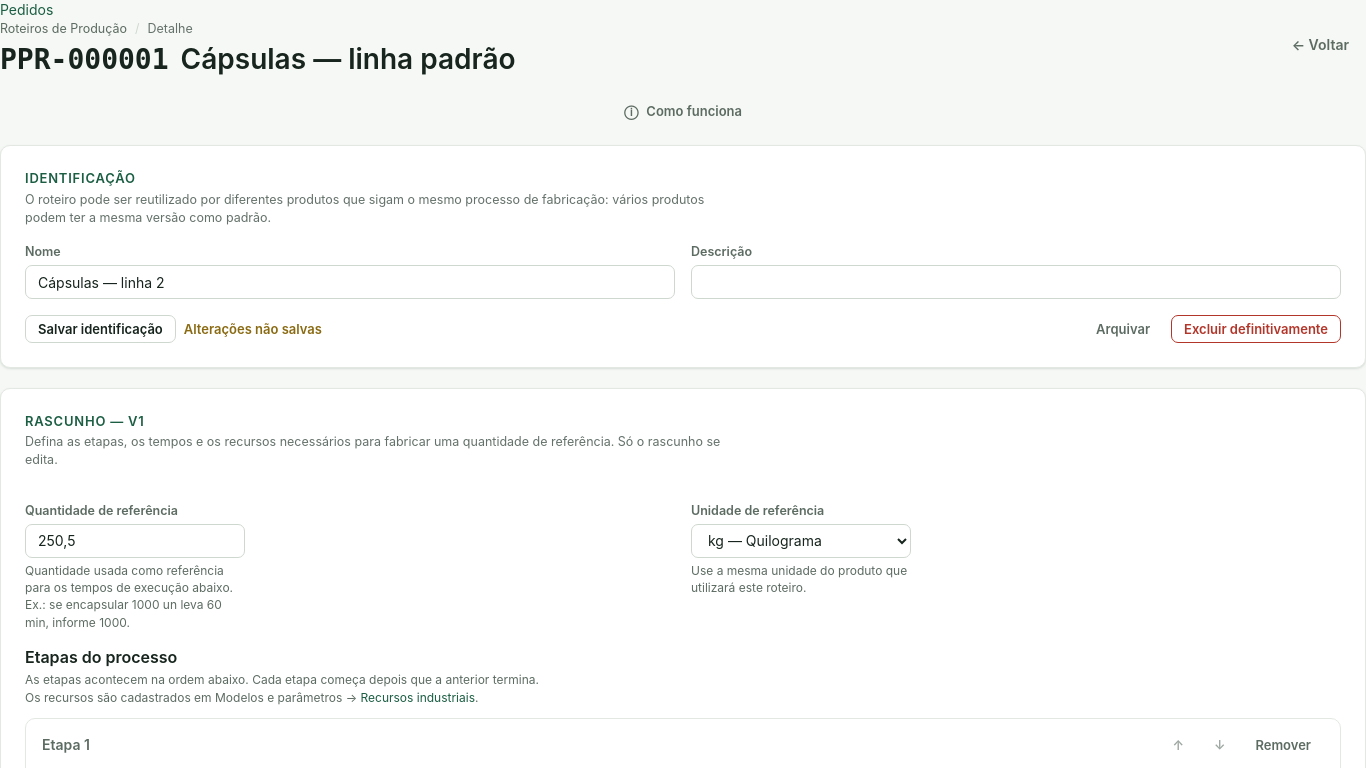
Test: Roteiro restaurado — alterações não salvas › depois da volta, salvar a identificação não apaga o rascunho restaurado (StrictMode)
Expected: the dropdown labelled "Unidade de referência" shows "kg — Quilograma", [691,524,911,558]
Expected: the field labelled "Quantidade de referência" holds "250,5", [25,524,245,558]
Click the button "Salvar identificação": (100, 329) [25,315,176,343]
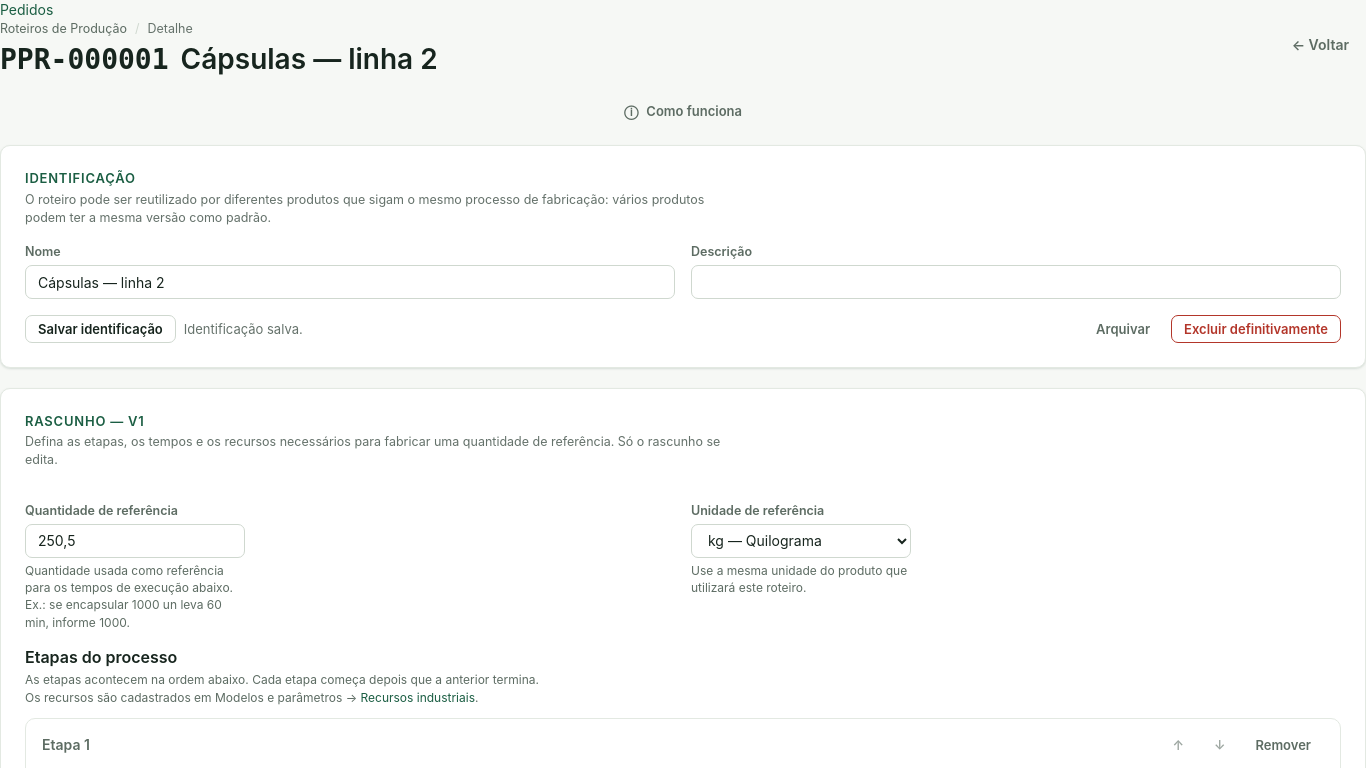
Expected: the dropdown labelled "Unidade de referência" shows "kg — Quilograma", [691,524,911,558]
Result: the text "Identificação salva." is shown at [184,320,303,338]
Result: the heading "PPR-000001 Cápsulas — linha 2" is shown at [0,42,438,77]
Click the link "Pedidos": (27, 10) [0,1,53,18]
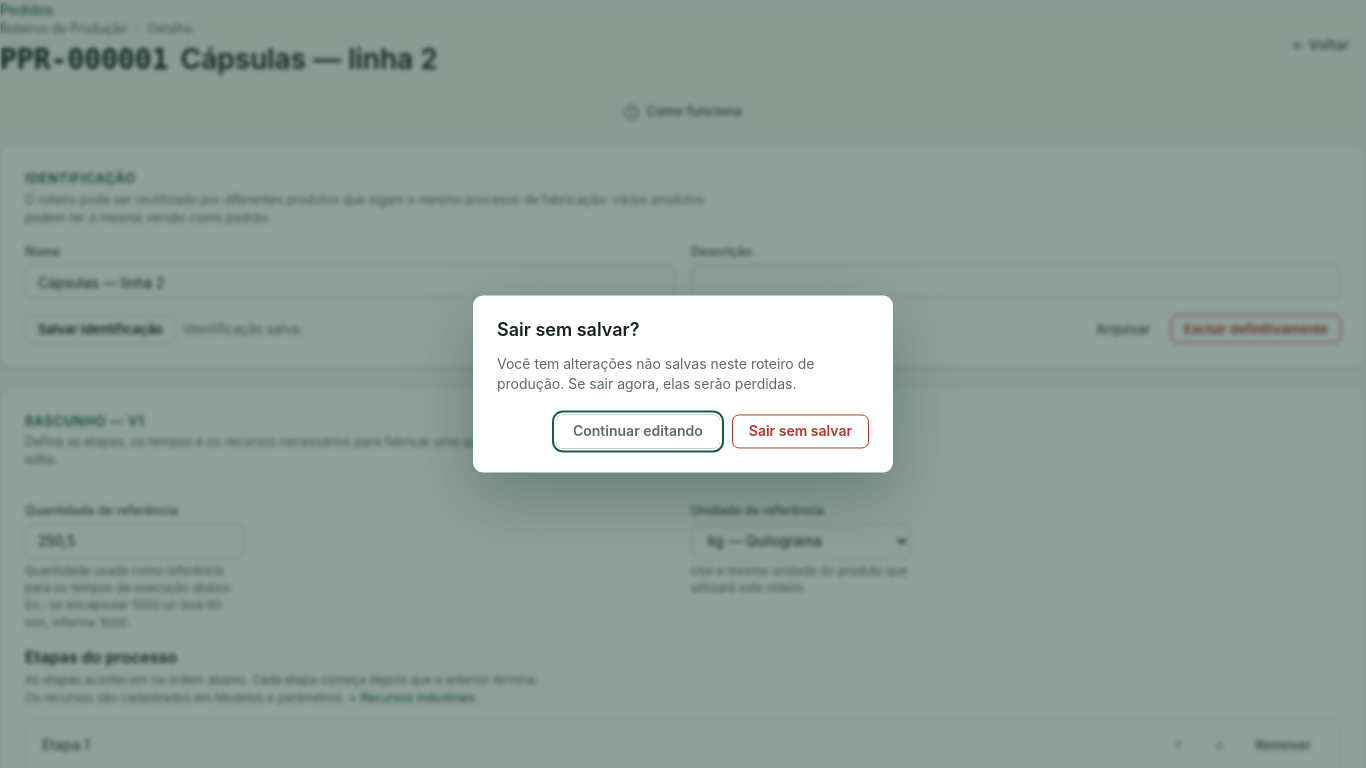
Result: the heading "Sair sem salvar?" is shown at [497,320,640,340]
